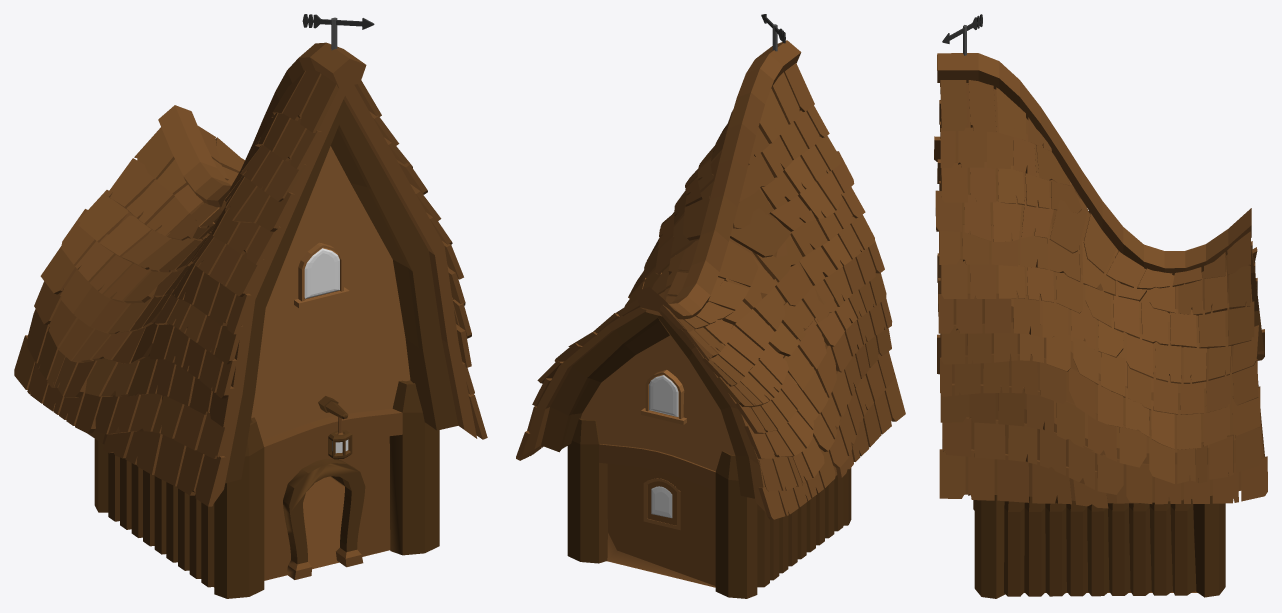
File: B_Blacksmith.fbx
3 renders of one model, left to right at view 1: azimuth 30°, elevation 25°; view 2: azimuth 150°, elevation 25°; view 3: azimuth 270°, elevation 25°, orthographic. The views are drawn at different scales.
Visible parts, largest first — view 1: B_Blacksmith; view 2: B_Blacksmith; view 3: B_Blacksmith.
Part boxes in pixels (x1=…): B_Blacksmith: x1=14, y1=14, x2=487, y2=598; B_Blacksmith: x1=516, y1=14, x2=905, y2=598; B_Blacksmith: x1=934, y1=14, x2=1267, y2=598.
Bounding box in the file's own units: 700 × 1208 × 700.
